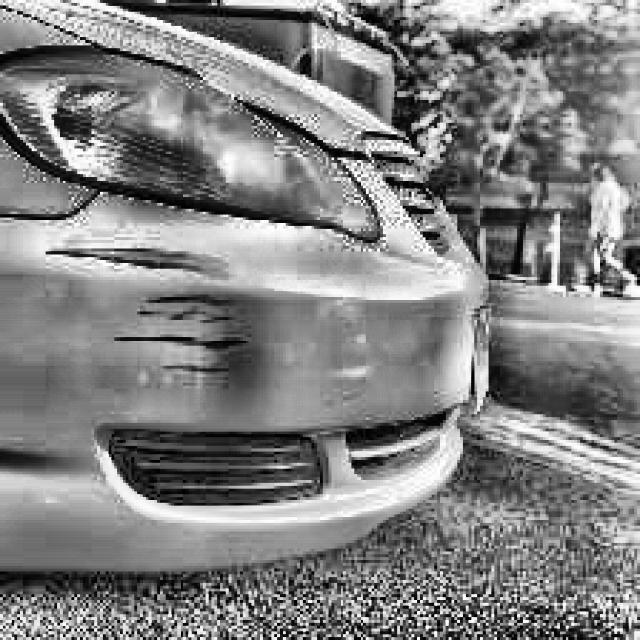bumper_scratch: (38, 240, 252, 386)
